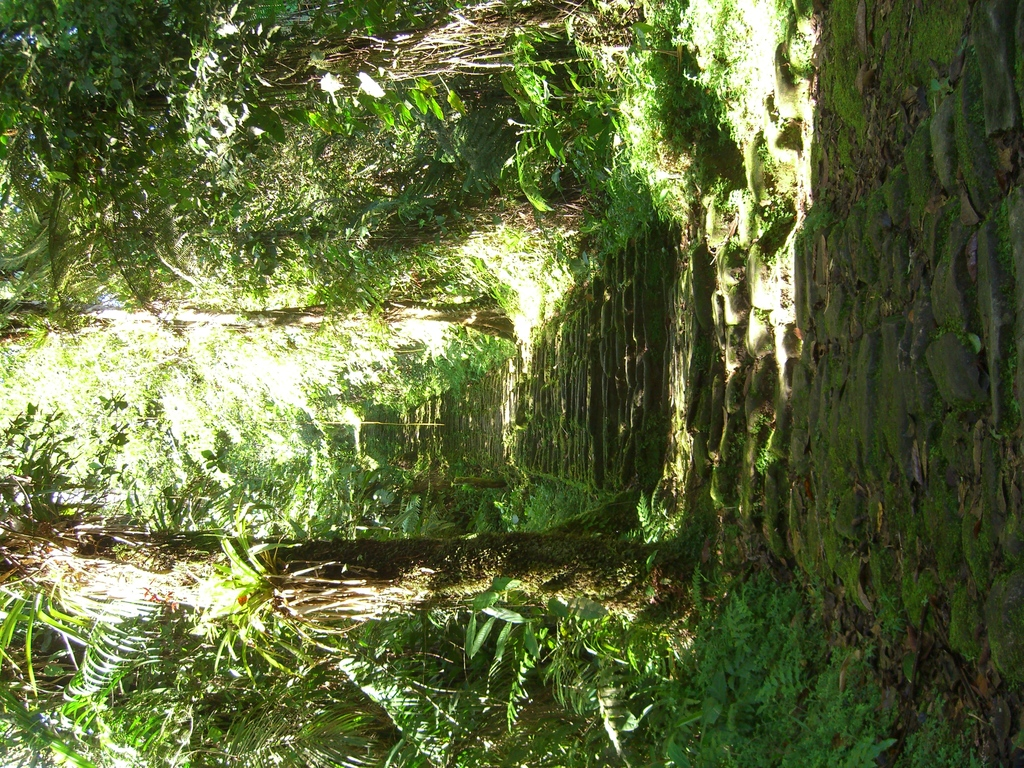Tree: (0, 0, 638, 767)
